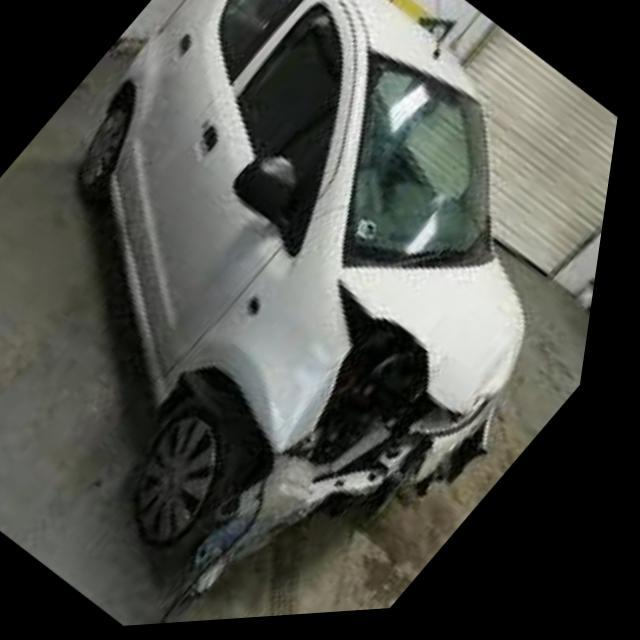no part: (178, 280, 528, 627)
